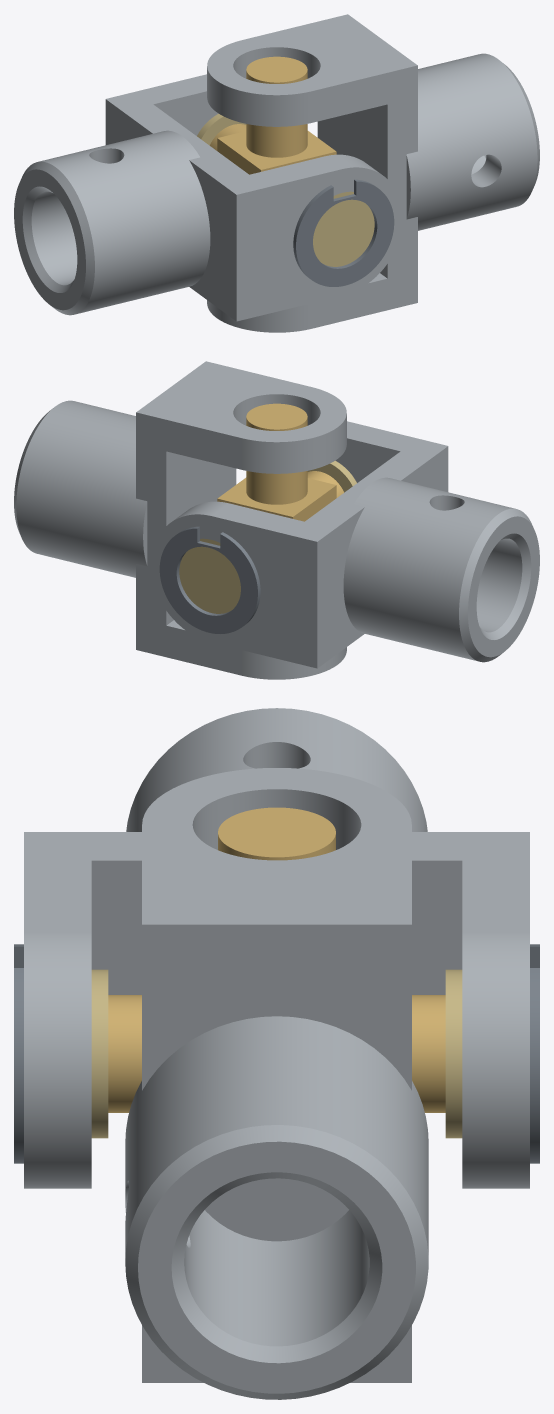
The model's file is step_17.glb.
3 renders of one model, top to bottom at view 1: azimuth 30°, elevation 25°; view 2: azimuth 150°, elevation 25°; view 3: azimuth 270°, elevation 25°, orthographic. The views are drawn at different scales.
Parts seen in each view (by area): view 1: part__input yoke, part__output yoke, part__cross (spider), part__circlip 2, part__cup 2, part__cup 1; view 2: part__input yoke, part__output yoke, part__cross (spider), part__circlip 1, part__cup 1, part__cup 2; view 3: part__output yoke, part__input yoke, part__cross (spider), part__cup 1, part__cup 2, part__circlip 1, part__circlip 2.
Part boxes in pixels (left/top/right/bottom): part__input yoke: left=14, top=74, right=402, bottom=321; part__output yoke: left=207, top=14, right=539, bottom=332; part__cross (spider): left=210, top=56, right=336, bottom=174; part__circlip 2: left=293, top=179, right=394, bottom=286; part__cup 2: left=313, top=191, right=374, bottom=266; part__cup 1: left=197, top=113, right=246, bottom=145; part__input yoke: left=151, top=421, right=539, bottom=668; part__output yoke: left=14, top=361, right=346, bottom=679; part__cross (spider): left=217, top=403, right=343, bottom=521; part__circlip 1: left=159, top=526, right=260, bottom=633; part__cup 1: left=179, top=538, right=240, bottom=613; part__cup 2: left=307, top=460, right=356, bottom=492; part__output yoke: left=125, top=768, right=428, bottom=1399; part__input yoke: left=24, top=708, right=529, bottom=1188; part__cross (spider): left=108, top=807, right=445, bottom=1112; part__cup 1: left=445, top=969, right=462, bottom=1138; part__cup 2: left=91, top=969, right=108, bottom=1138; part__circlip 1: left=530, top=944, right=539, bottom=1163; part__circlip 2: left=14, top=944, right=23, bottom=1163.
Bounding box in the file's own units: 120 × 60 × 62.4.
